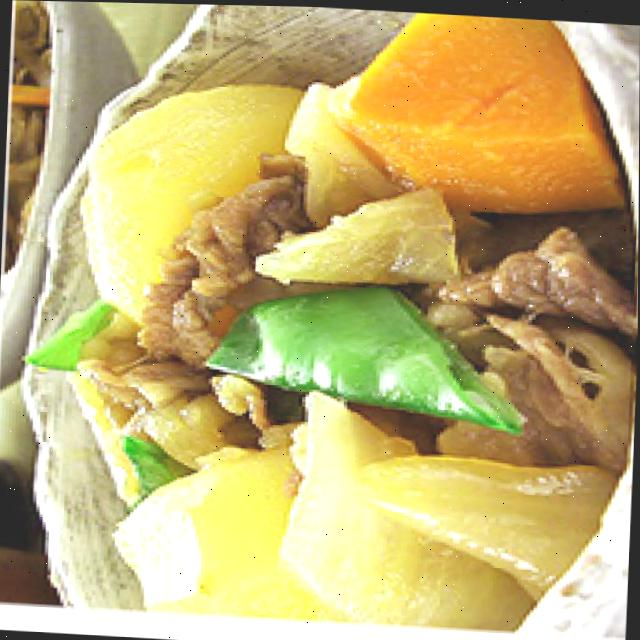牛肉菜式: (18, 0, 640, 622)
